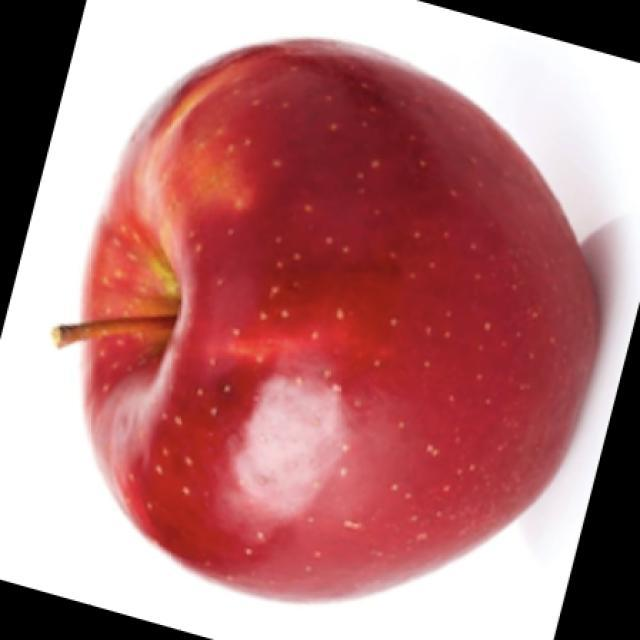Apple: (51, 35, 602, 604)
